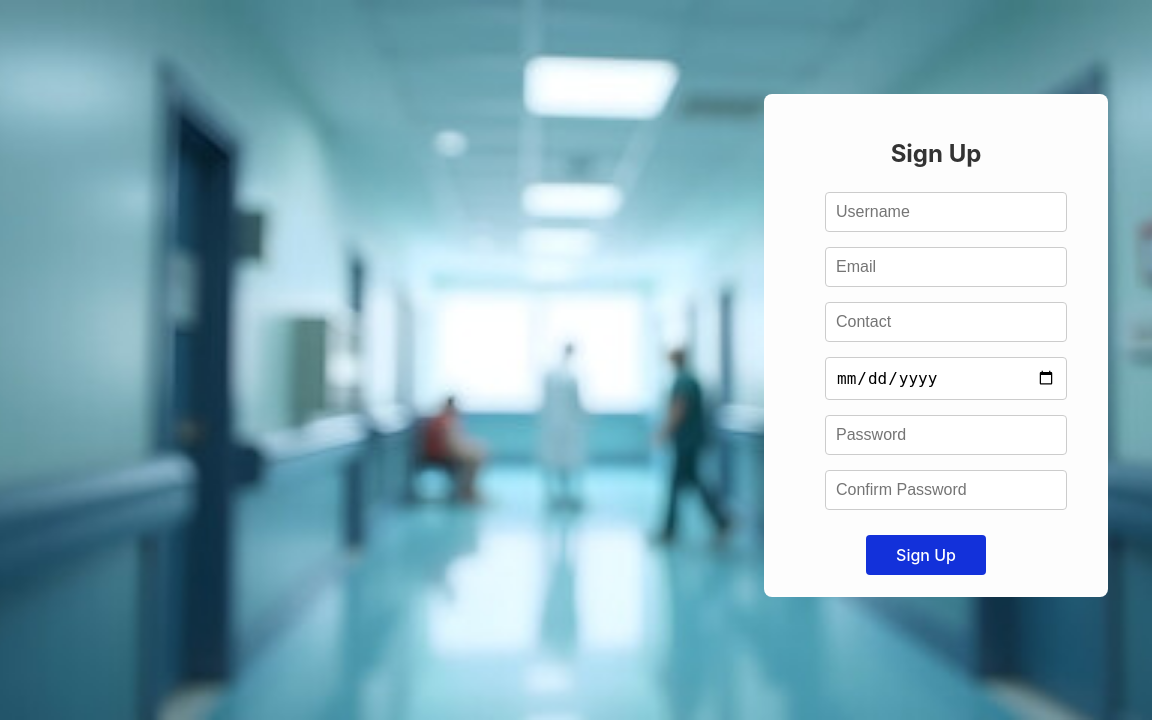
Scenario: signup component › displays error message when passwords do not match
Type "password123" into the password field with placeholder "Password" at coordinates (946, 435), box [825, 415, 1067, 455]
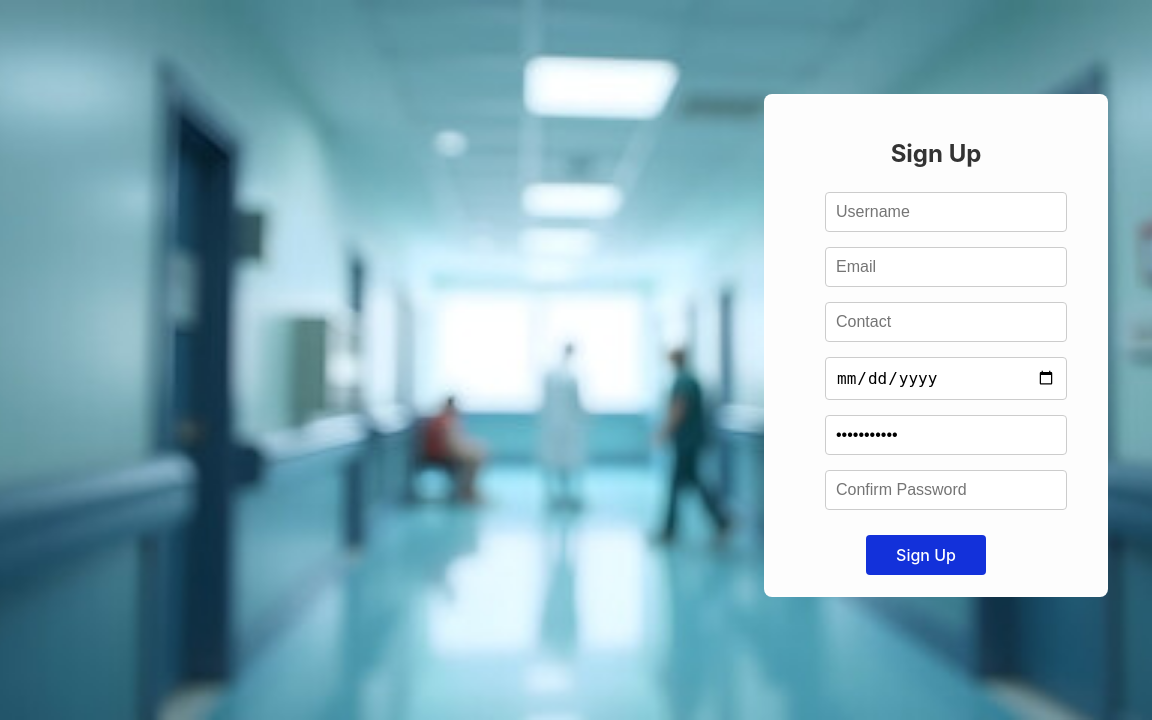
Type "password456" into the password field with placeholder "Confirm Password" at coordinates (946, 490), box [825, 470, 1067, 510]
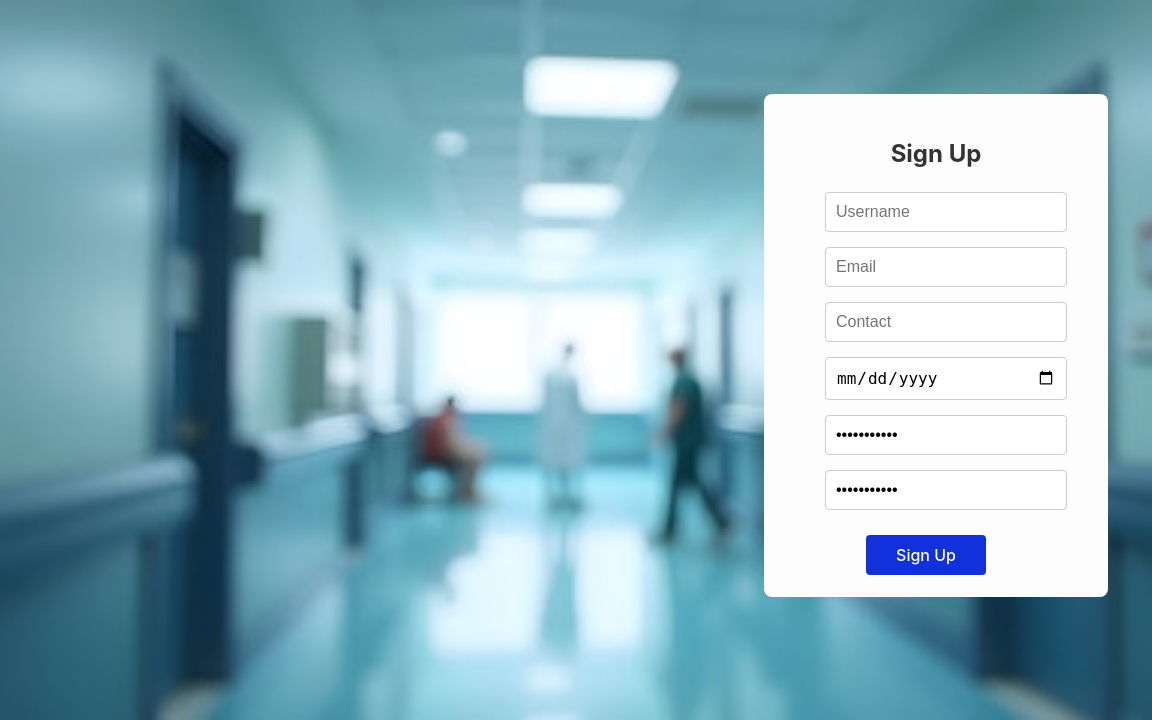
Submit the form from the button, box [866, 535, 986, 575]
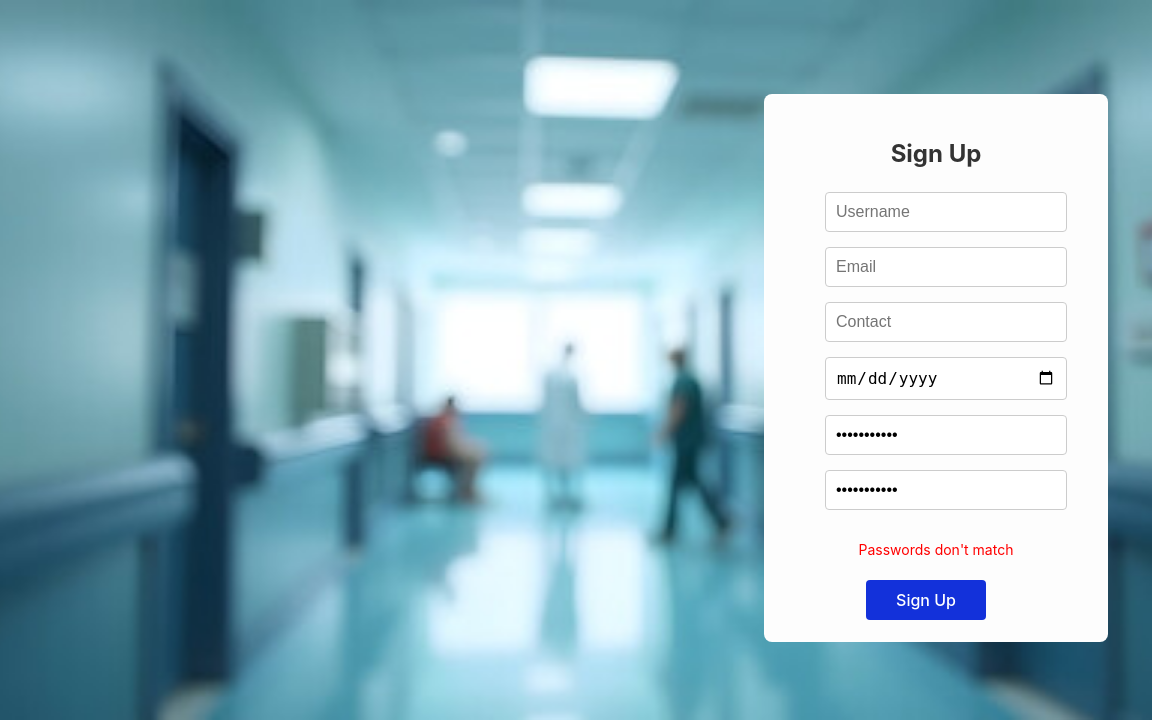
Result: the text "Passwords don't match" is shown at [858, 541, 1013, 558]
